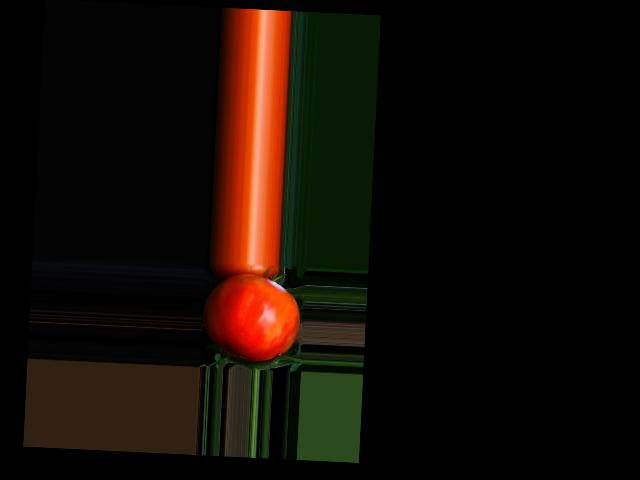tomato: (201, 272, 301, 363)
